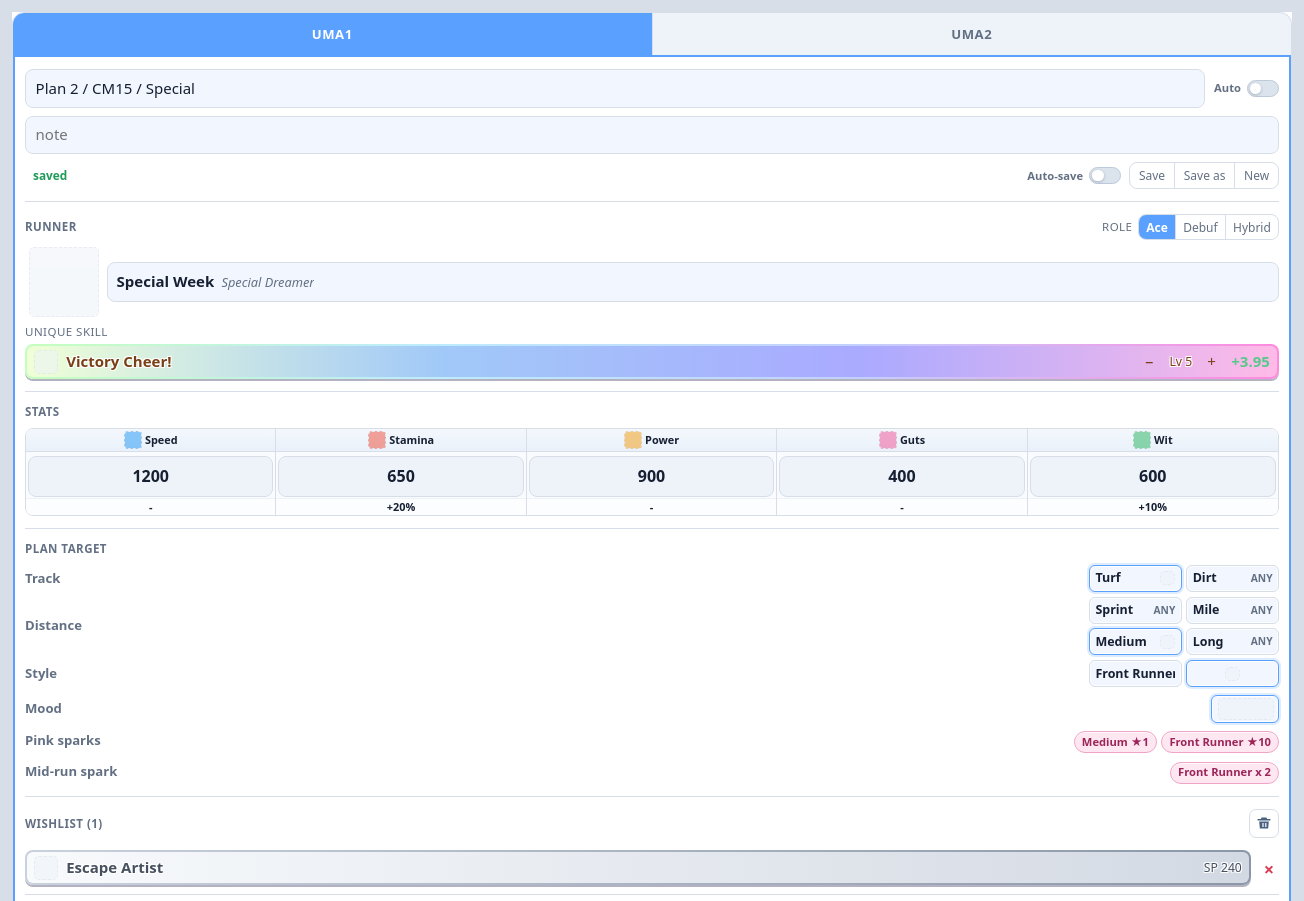
Test: PlannerSidebar › marks harmful random recovery effects as debuffs
Step 1. Click the text "Victory Cheer!" → (119, 362), box [66, 351, 172, 373]
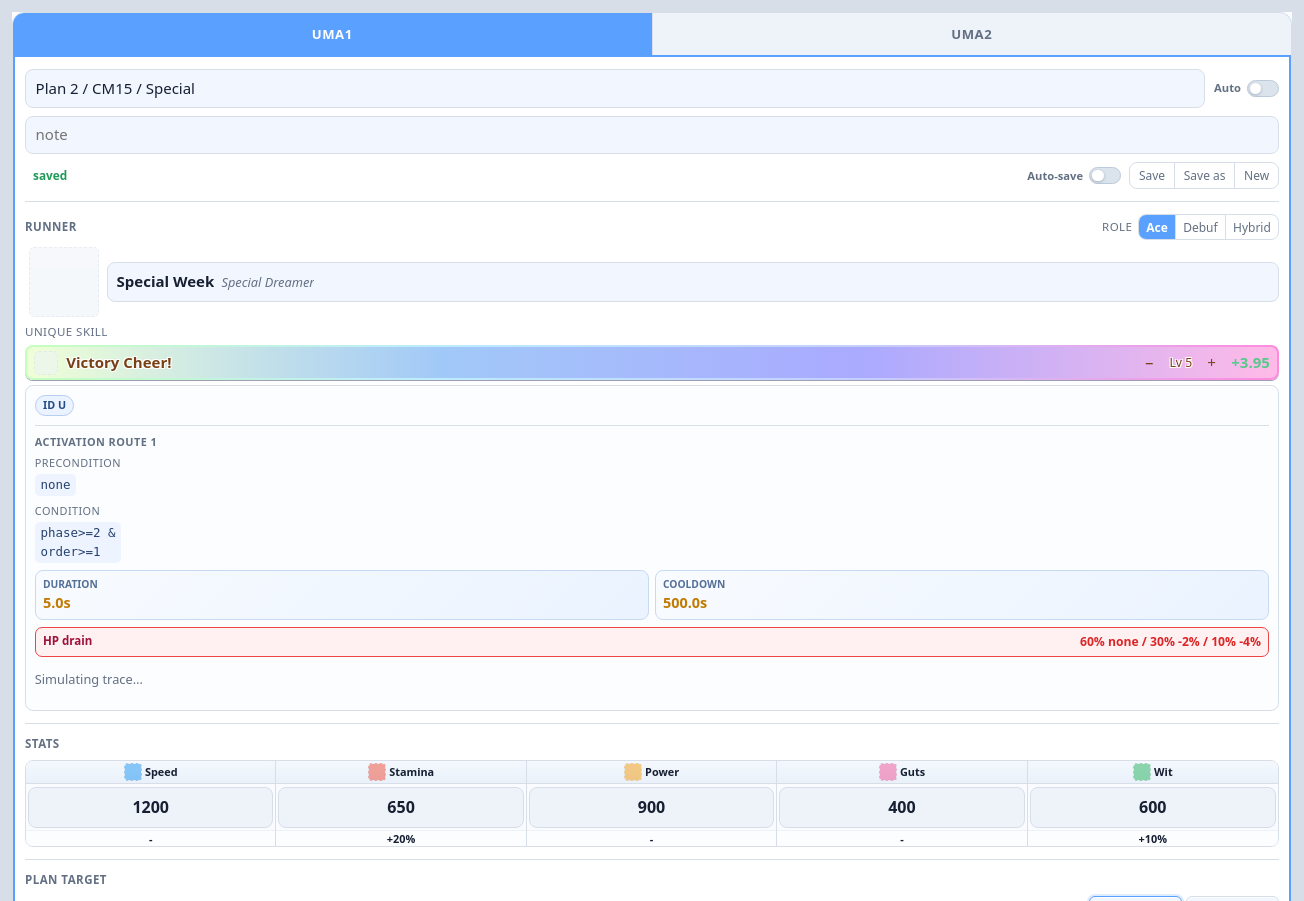
Expected: the text "HP drain" is shown, [43, 633, 92, 648]
Expected: the text "60% none / 30% -2% / 10% -4%" is shown, [1080, 633, 1261, 651]
